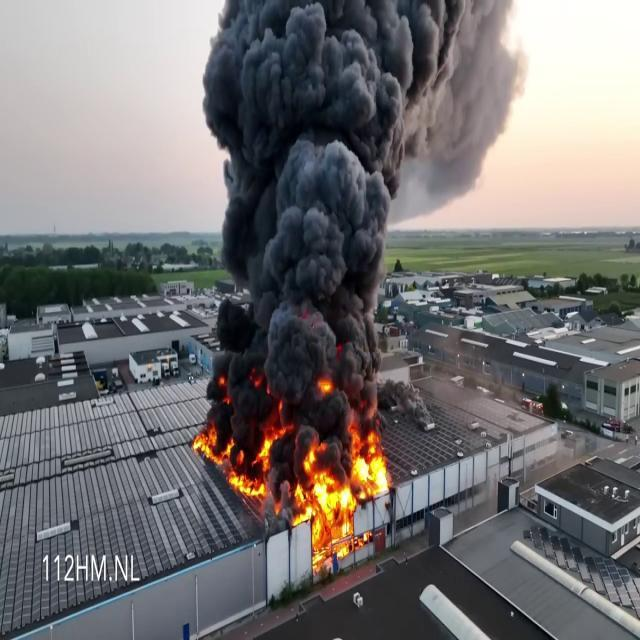Fire: (294, 420, 392, 560), (192, 413, 274, 503)
Smoke: (192, 0, 527, 402)
